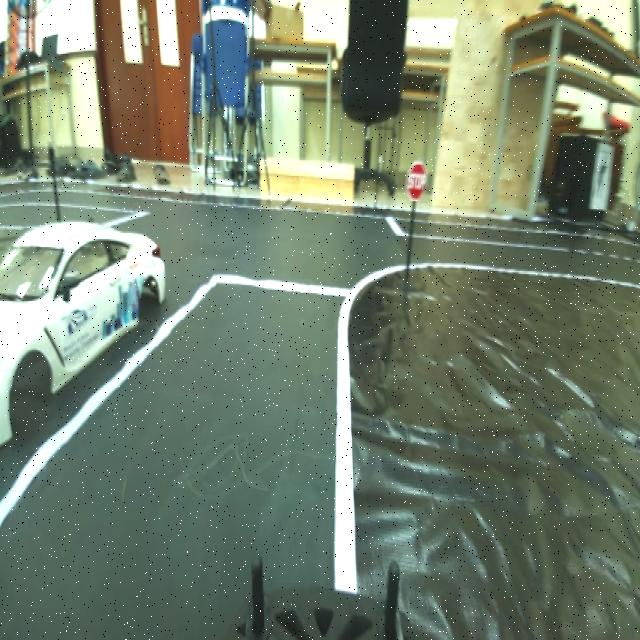car: (3, 215, 183, 438)
stop: (405, 145, 431, 210)
